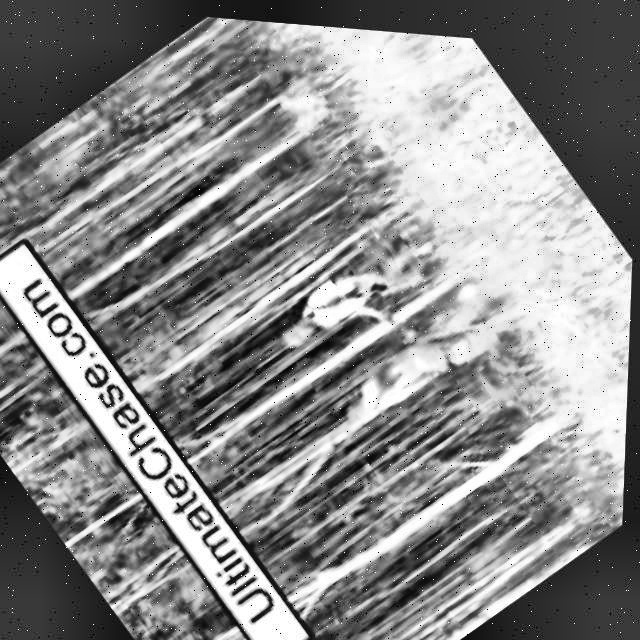Fire: (273, 64, 337, 130), (447, 263, 486, 304)
